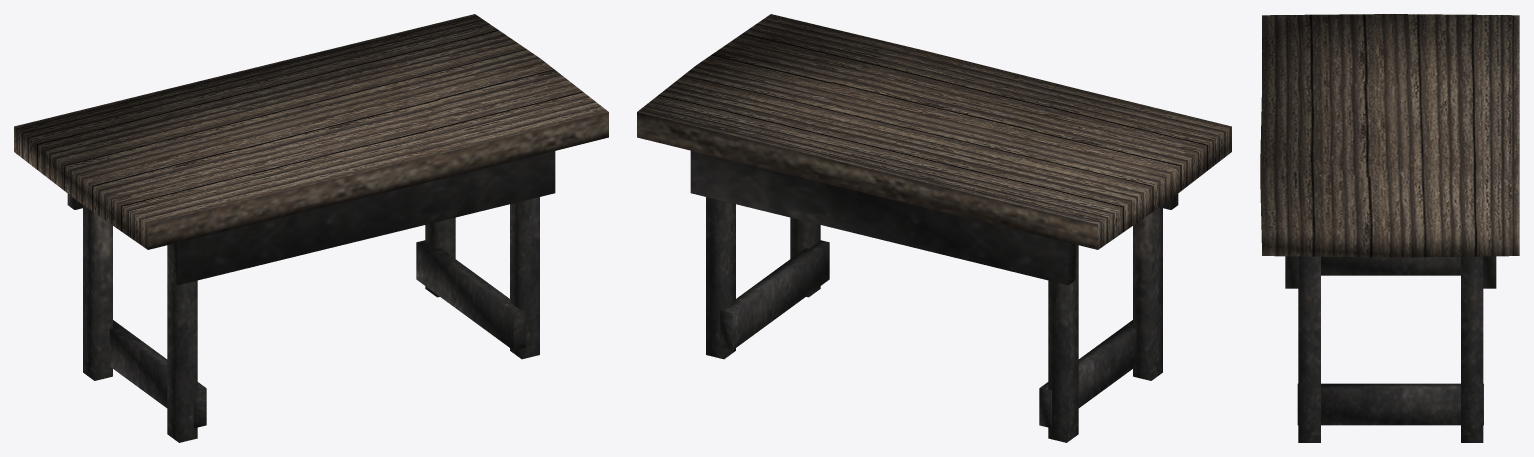
File: Table_Wood.fbx
The picture shows the model from 3 angles, left to right: view 1: azimuth 30°, elevation 25°; view 2: azimuth 150°, elevation 25°; view 3: azimuth 270°, elevation 25°; orthographic projection. The views are drawn at different scales.
Parts seen in each view (by area): view 1: Table_Wood; view 2: Table_Wood; view 3: Table_Wood.
Part boxes in pixels (bbox=[...]): Table_Wood: bbox=[14, 14, 608, 442]; Table_Wood: bbox=[637, 14, 1231, 442]; Table_Wood: bbox=[1260, 14, 1519, 442].
Bounding box in the file's own units: 200 × 100 × 100.
1 material, 1 textured.
